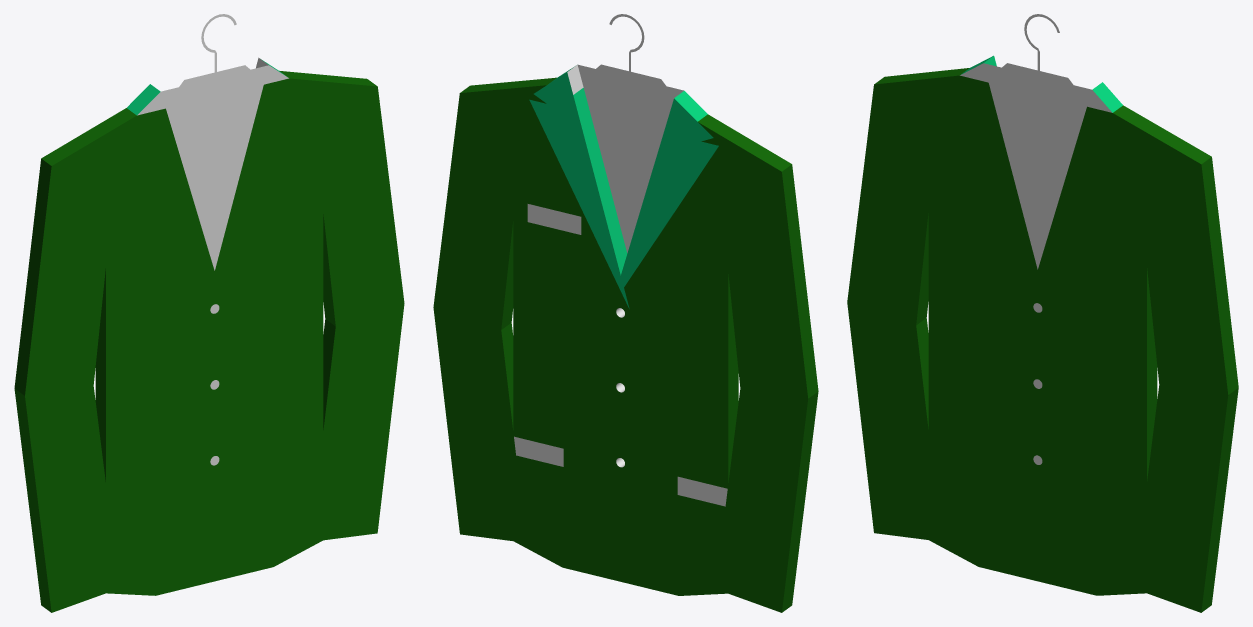
The model's file is jacket-green.dae.
3 renders of one model, left to right at view 1: azimuth 30°, elevation 25°; view 2: azimuth 150°, elevation 25°; view 3: azimuth 330°, elevation 25°, orthographic.
Visible parts, largest first — view 1: SketchUp_017, SketchUp_003, SketchUp, SketchUp_001, SketchUp_014; view 2: SketchUp_003, SketchUp_008, SketchUp, SketchUp_001, SketchUp_007, SketchUp_010, SketchUp_011, SketchUp_014; view 3: SketchUp_017, SketchUp, SketchUp_004, SketchUp_003, SketchUp_001, SketchUp_014, SketchUp_008.
Boxes of the visible parts, x1=… form: SketchUp_017: x1=25, y1=78, x2=404, y2=612; SketchUp_003: x1=14, y1=70, x2=376, y2=612; SketchUp: x1=166, y1=84, x2=263, y2=270; SketchUp_001: x1=161, y1=65, x2=268, y2=108; SketchUp_014: x1=179, y1=14, x2=249, y2=86; SketchUp_003: x1=433, y1=77, x2=818, y2=612; SketchUp_008: x1=529, y1=66, x2=718, y2=308; SketchUp: x1=582, y1=84, x2=671, y2=252; SketchUp_001: x1=577, y1=64, x2=683, y2=105; SketchUp_007: x1=527, y1=204, x2=581, y2=234; SketchUp_010: x1=677, y1=476, x2=727, y2=506; SketchUp_011: x1=514, y1=436, x2=563, y2=466; SketchUp_014: x1=596, y1=14, x2=665, y2=85; SketchUp_017: x1=847, y1=75, x2=1228, y2=612; SketchUp: x1=989, y1=83, x2=1086, y2=269; SketchUp_004: x1=1201, y1=157, x2=1238, y2=612; SketchUp_003: x1=874, y1=68, x2=1211, y2=480; SketchUp_001: x1=983, y1=63, x2=1091, y2=106; SketchUp_014: x1=1002, y1=14, x2=1073, y2=84; SketchUp_008: x1=961, y1=55, x2=1122, y2=112.
Bounding box in the file's own units: 0.532 × 0.0254 × 0.7578.
